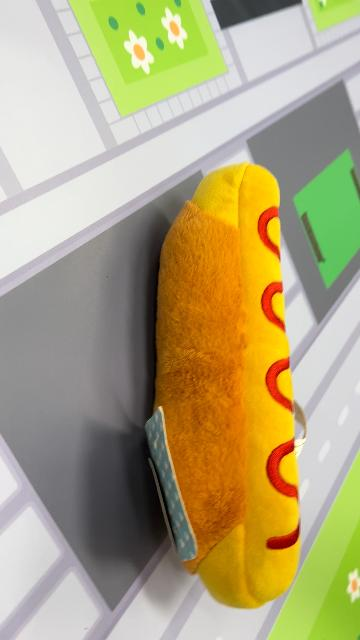hotdog: (146, 161, 304, 611)
